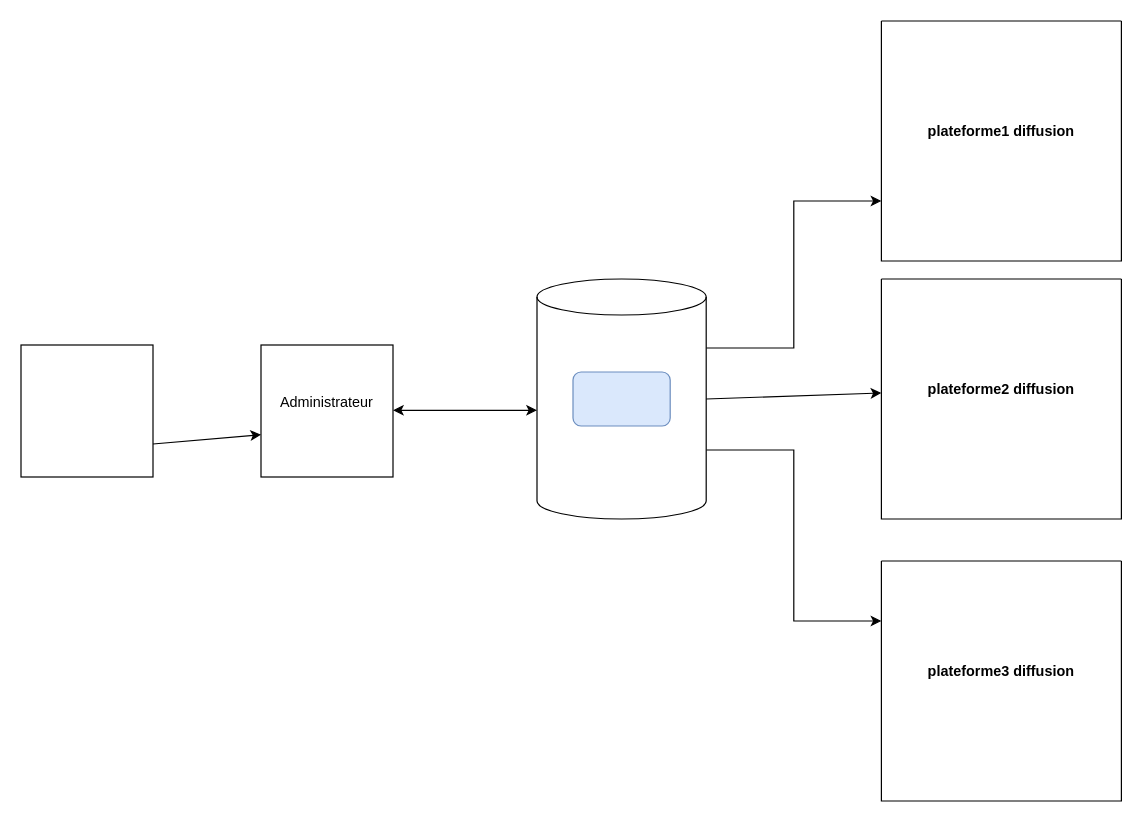
The diagram is 1142 pixels wide and 822 high, and some of its shapes have lost their labels. The shapes that lost their labels are listed below. From the top down, each one's centre as x and y in pixels, then its label:
At (x=86, y=410): "Authentification administrateur".
At (x=621, y=398): "API CENTRAL".
